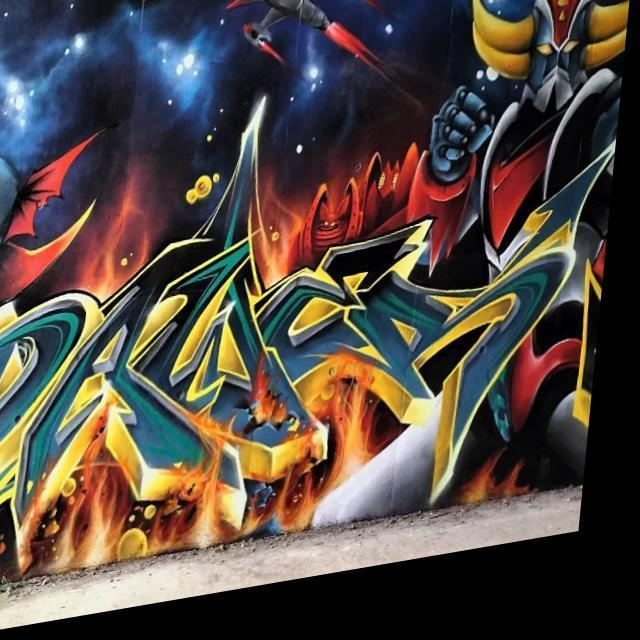-: (0, 90, 627, 594), (420, 0, 638, 296), (0, 25, 132, 338), (200, 0, 432, 138)
